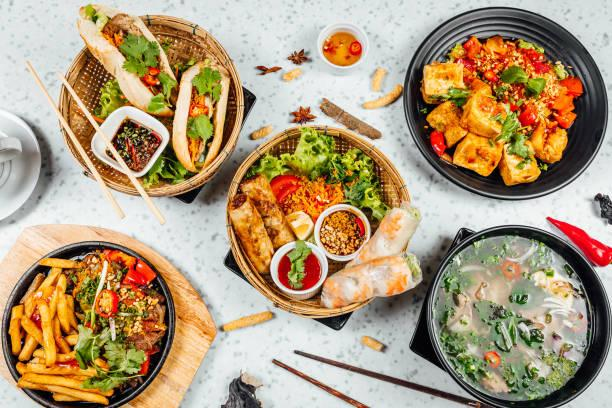Braised Crucian Carp: (404, 6, 608, 201), (411, 224, 611, 406), (224, 125, 408, 315), (57, 14, 240, 199), (1, 241, 176, 408)
